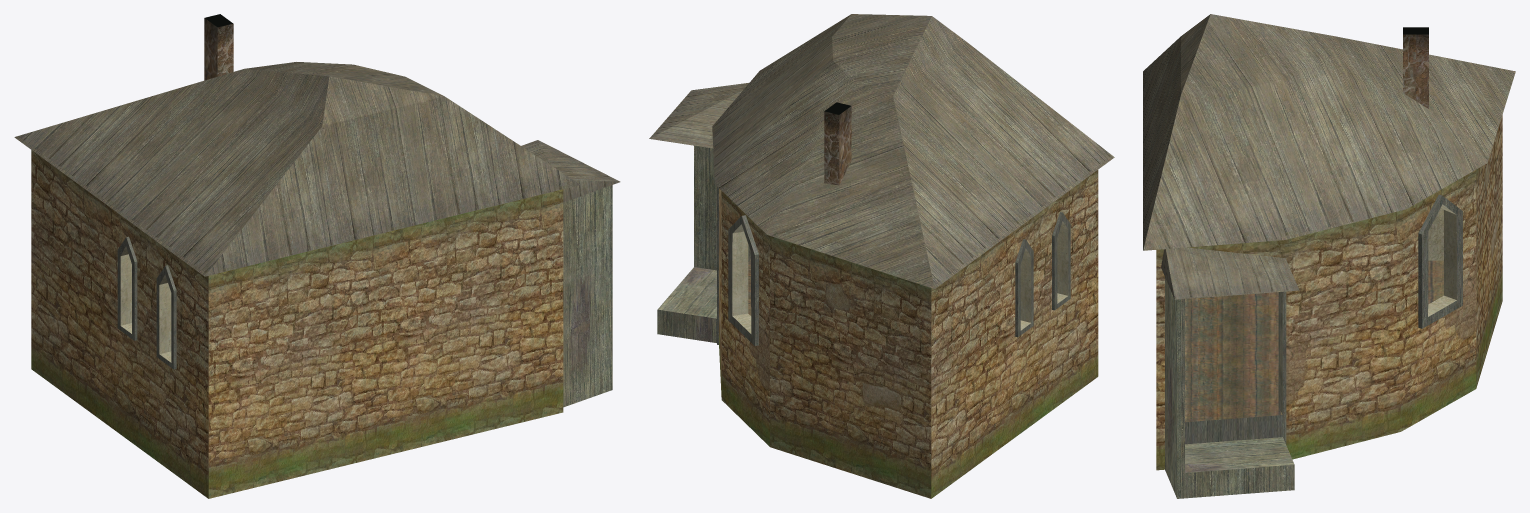
File: House15.glb
3 views of the same model, side by side, from view 1: azimuth 30°, elevation 25°; view 2: azimuth 150°, elevation 25°; view 3: azimuth 270°, elevation 25° (orthographic). The views are drawn at different scales.
Visible parts, largest first — view 1: House15; view 2: House15; view 3: House15.
Part boxes in pixels (x1=…): House15: x1=14, y1=14, x2=620, y2=498; House15: x1=649, y1=14, x2=1114, y2=498; House15: x1=1143, y1=14, x2=1515, y2=498.
Bounding box in the file's own units: 6.44 × 5.21 × 4.92.
11 materials, 11 textured.
